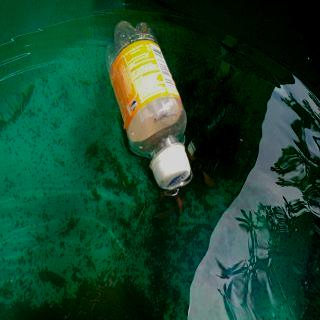bottle: (104, 17, 192, 192)
